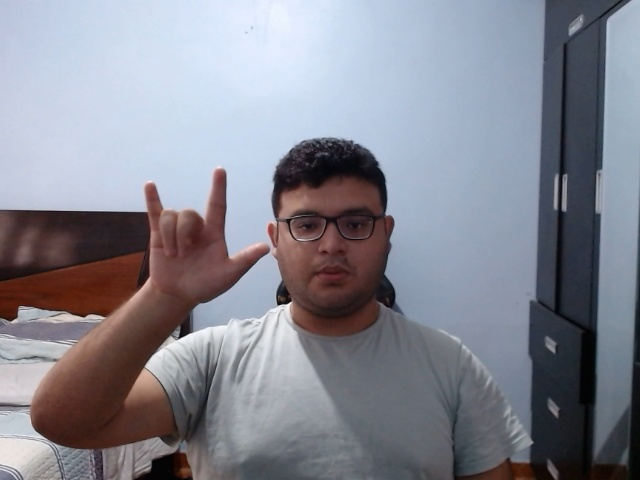I love you: (134, 163, 272, 316)
